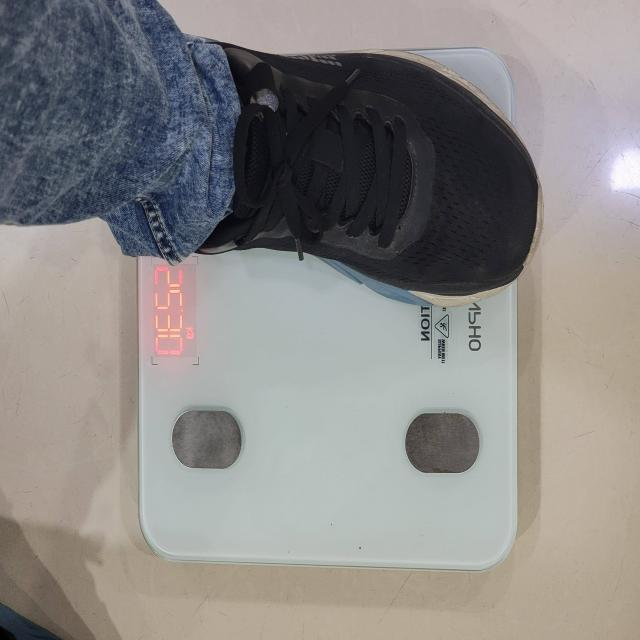ws: (0, 219, 640, 640)
